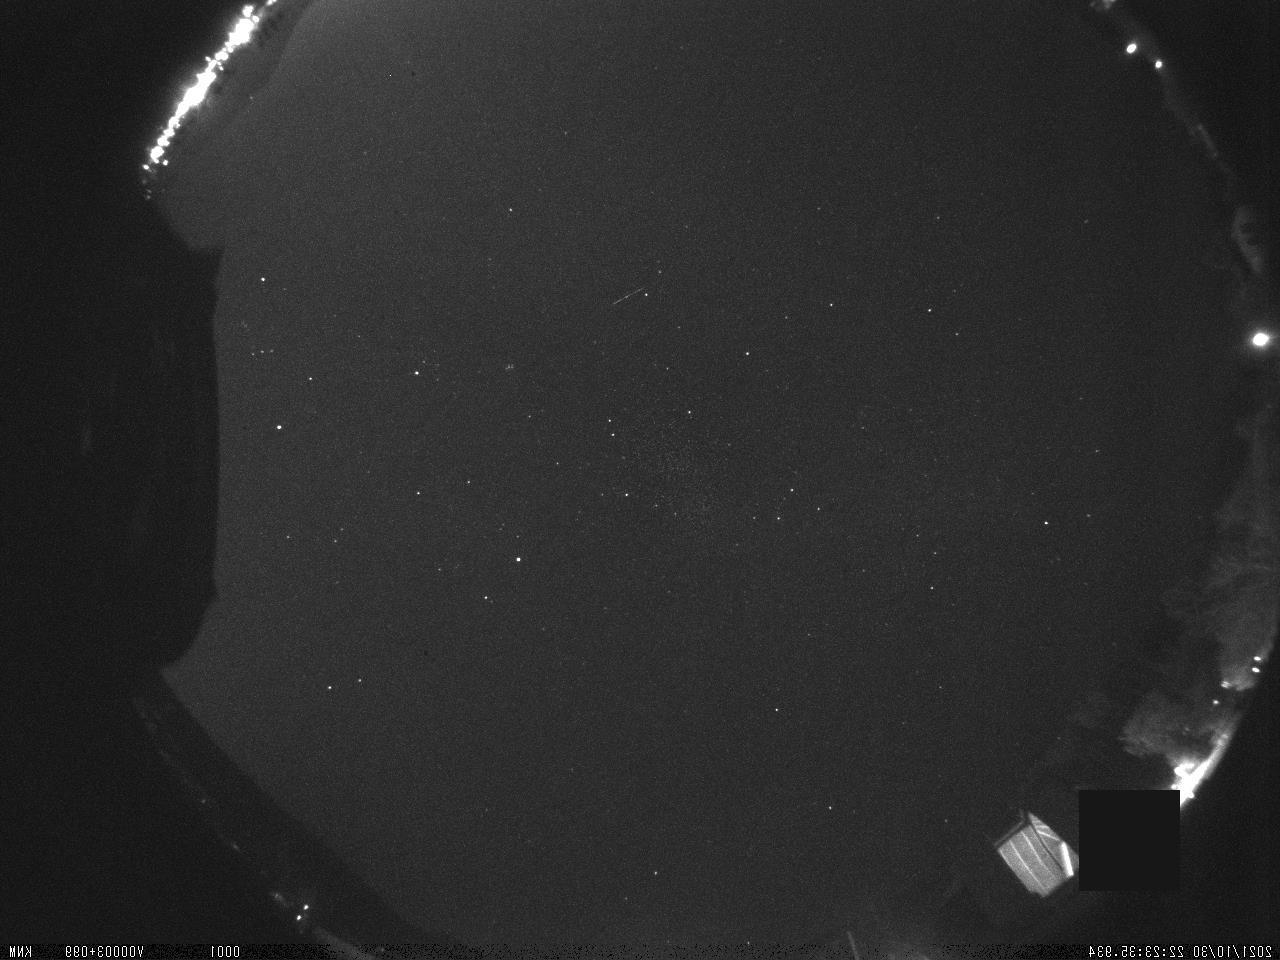meteor: (602, 279, 652, 312)
